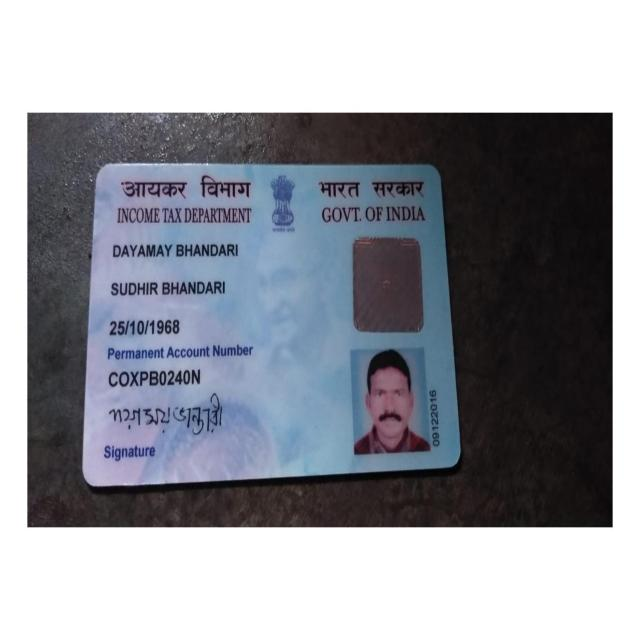pan_card: (86, 167, 456, 483)
